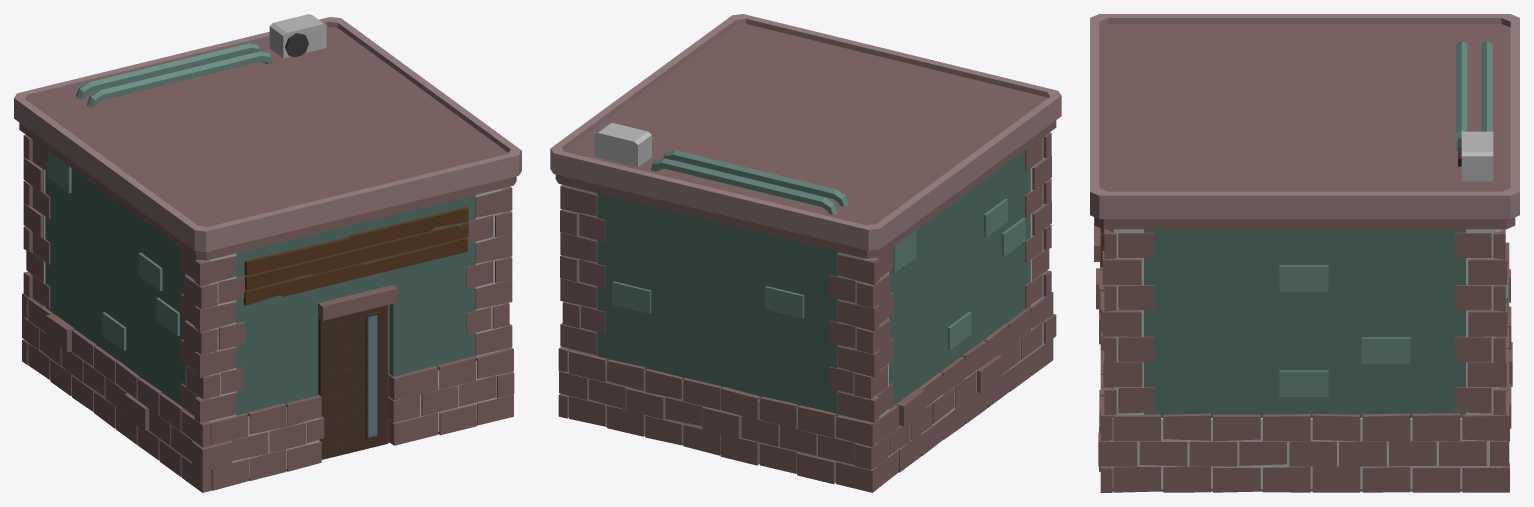
The model's file is 1Story_Sign_Mat.glb.
The picture shows the model from 3 angles, left to right: view 1: azimuth 30°, elevation 25°; view 2: azimuth 150°, elevation 25°; view 3: azimuth 270°, elevation 25°; orthographic projection. The views are drawn at different scales.
Visible parts, largest first — view 1: 1Story_Sign_Mat; view 2: 1Story_Sign_Mat; view 3: 1Story_Sign_Mat.
Boxes of the visible parts, <box> form: 1Story_Sign_Mat: <box>14,14,521,492</box>; 1Story_Sign_Mat: <box>550,14,1061,492</box>; 1Story_Sign_Mat: <box>1090,14,1519,492</box>.
Size of the model in its own units: 2.15 by 1.79 by 2.15.
